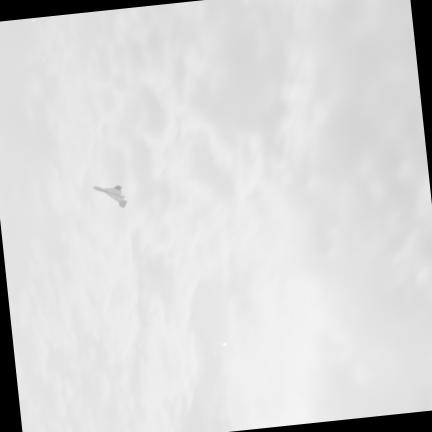Shahed: (93, 186, 126, 207)
